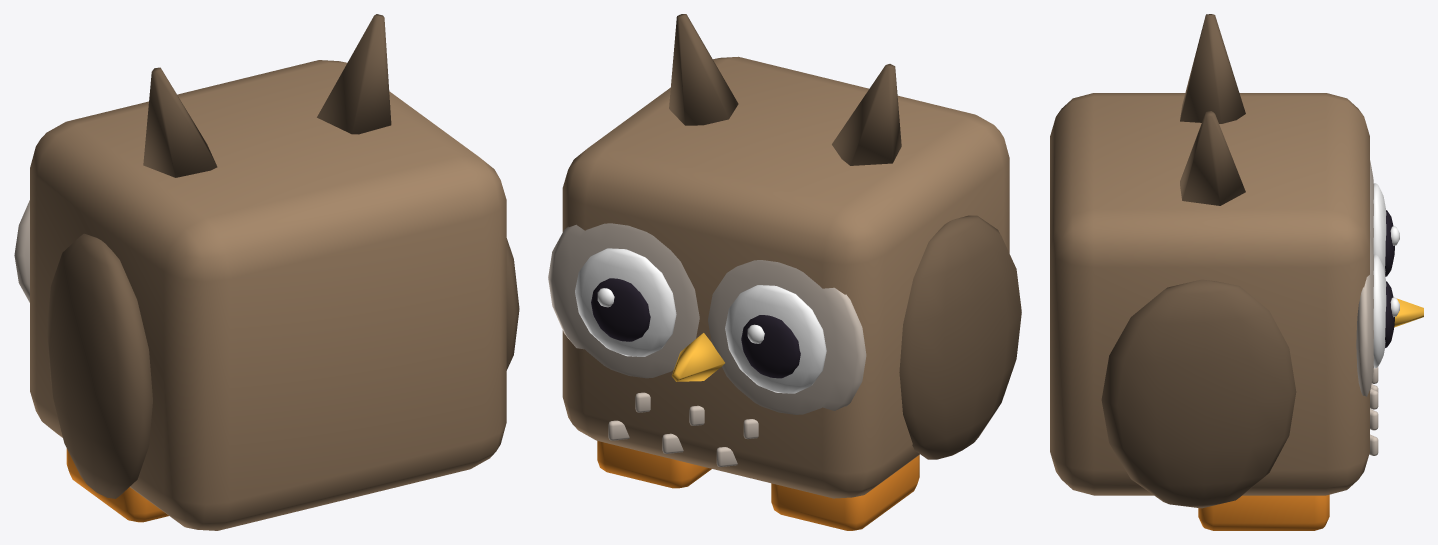
Rendered from pet_owl.fbx.
3 views of the same model, side by side, from view 1: azimuth 30°, elevation 25°; view 2: azimuth 150°, elevation 25°; view 3: azimuth 270°, elevation 25° (orthographic). The views are drawn at different scales.
Visible parts, largest first — view 1: pet_owl; view 2: pet_owl; view 3: pet_owl.
Boxes of the visible parts, box(x1,y1,x2,y2) form: pet_owl: box(14, 14, 519, 530); pet_owl: box(548, 14, 1021, 530); pet_owl: box(1050, 14, 1423, 530).
Size of the model in its own units: 2.59 by 2.69 by 2.22.
Materials: 1 (1 with a texture image).
